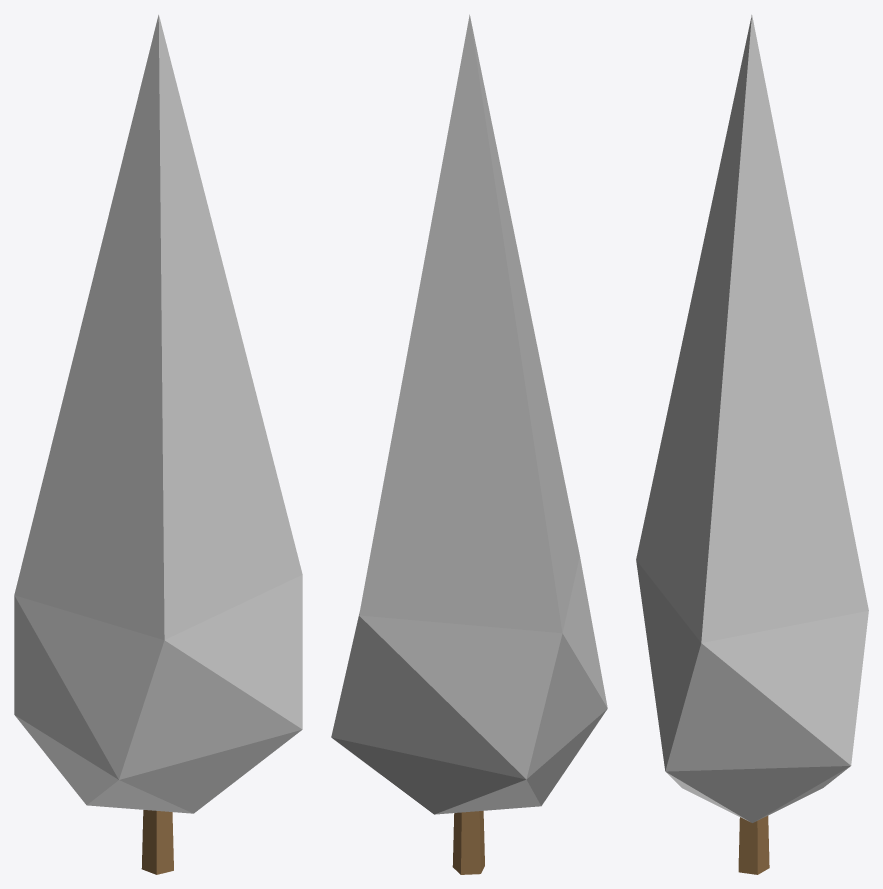
Rendered from tree14.fbx.
3 views of the same model, side by side, from view 1: azimuth 30°, elevation 25°; view 2: azimuth 150°, elevation 25°; view 3: azimuth 270°, elevation 25° (orthographic).
Visible parts, largest first — view 1: tree_14; view 2: tree_14; view 3: tree_14.
Boxes of the visible parts, x1=… form: tree_14: x1=14, y1=14, x2=302, y2=874; tree_14: x1=331, y1=14, x2=607, y2=874; tree_14: x1=636, y1=15, x2=868, y2=874.
Size of the model in its own units: 2.21 by 1.88 by 7.62.
